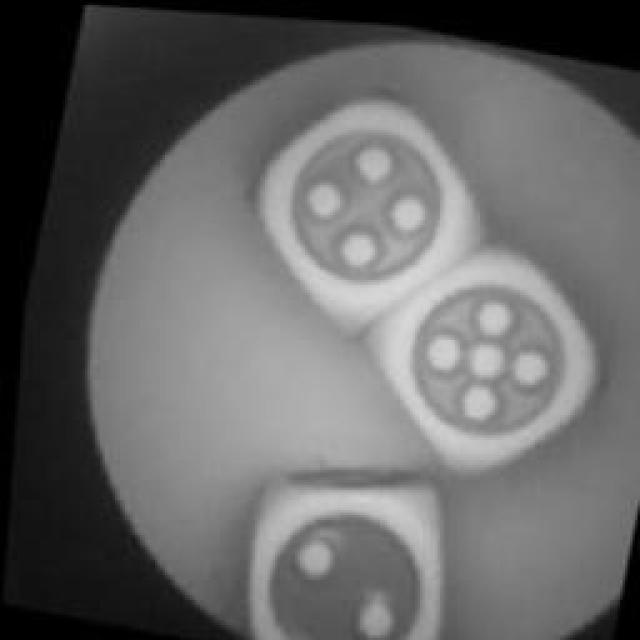dice_2: (228, 465, 452, 640)
dice_4: (228, 82, 478, 312)
dice_5: (362, 242, 606, 476)
